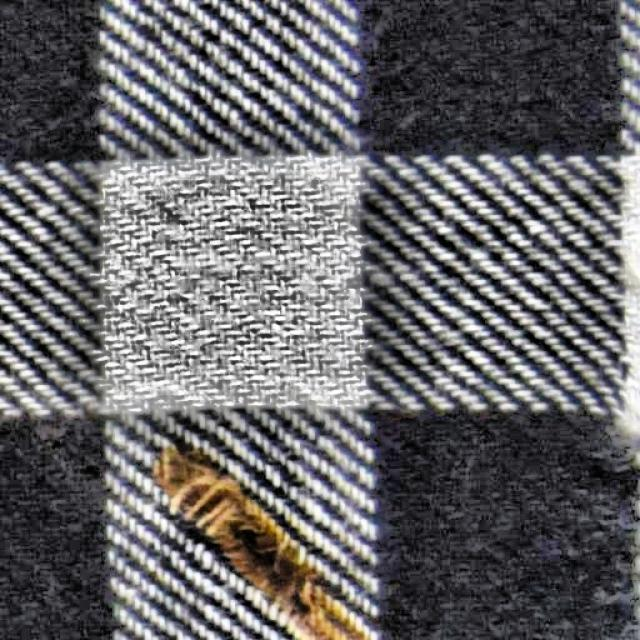Stitch: (144, 444, 360, 638)
